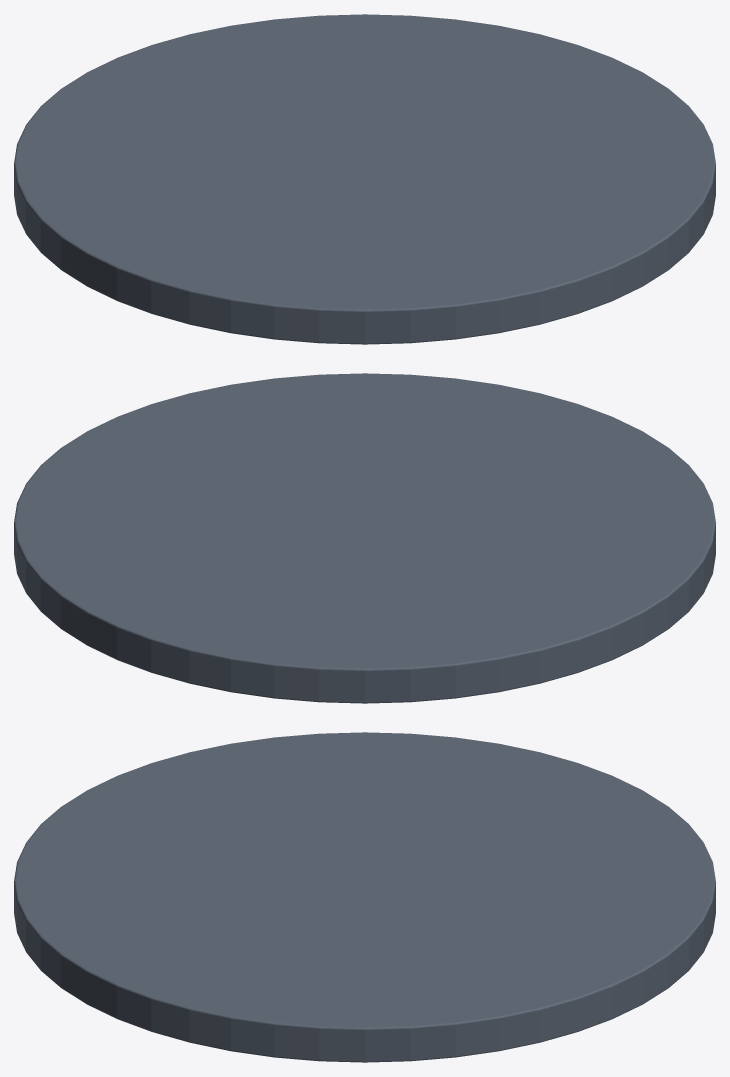
File: round-plate-proxy-v2-80x120x4-plastic-abs.glb
3 renders of one model, top to bottom at view 1: azimuth 30°, elevation 25°; view 2: azimuth 150°, elevation 25°; view 3: azimuth 270°, elevation 25°, orthographic.
Parts seen in each view (by area): view 1: flat_item_body; view 2: flat_item_body; view 3: flat_item_body.
Boxes of the visible parts, bbox=[...] form: flat_item_body: bbox=[14, 14, 715, 344]; flat_item_body: bbox=[14, 373, 715, 703]; flat_item_body: bbox=[14, 732, 715, 1062].
Bounding box in the file's own units: 80.48 × 4.4 × 80.48.
